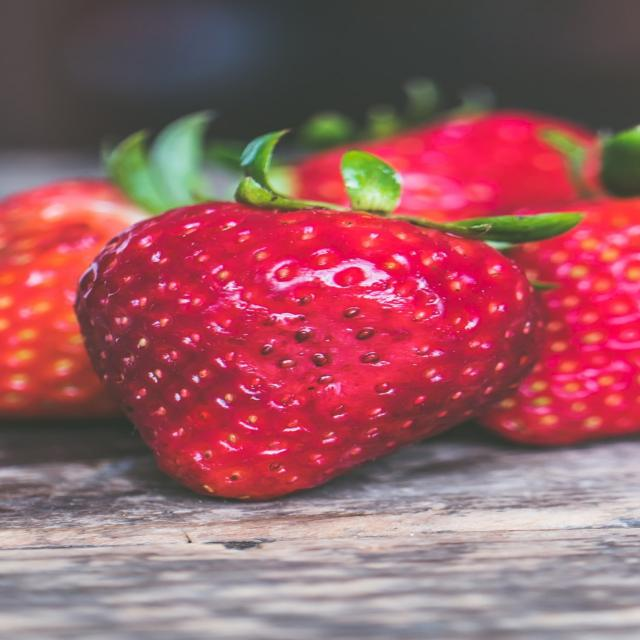strawberry: (79, 136, 562, 483)
